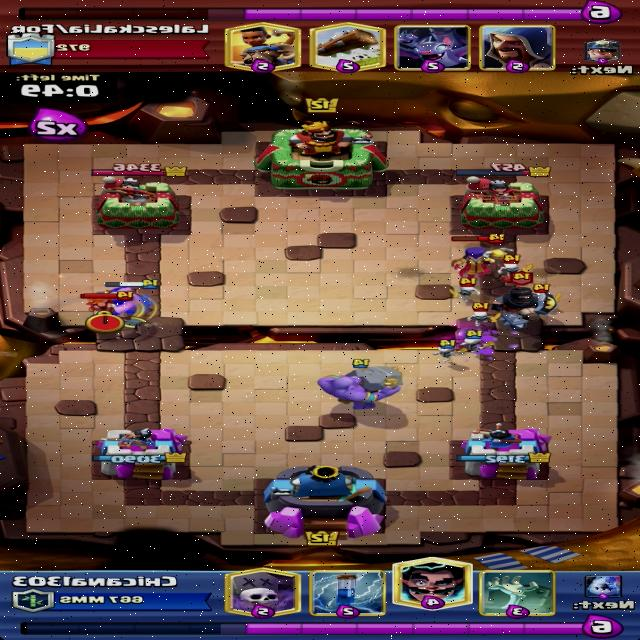Enemy-DarkPrince: (492, 270, 556, 328)
Enemy-Skeleton: (466, 303, 502, 327), (498, 254, 532, 278), (450, 277, 480, 300)
Enemy-Valkyrie: (80, 291, 143, 328)
Enemy-Witch: (452, 234, 514, 277)
Player-Bowler: (318, 359, 403, 410)
Player-Executioner: (100, 279, 161, 317)
Player-Skeleton: (460, 329, 495, 354), (433, 339, 465, 362)
